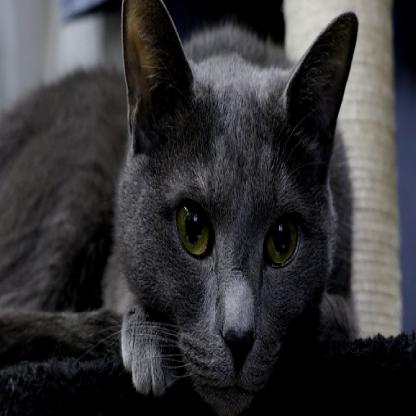cat: (1, 0, 359, 415)
